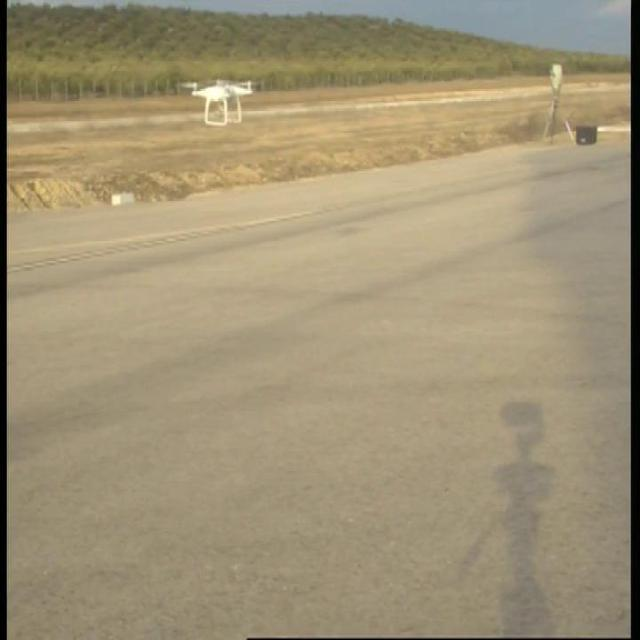drone: (174, 75, 258, 132)
